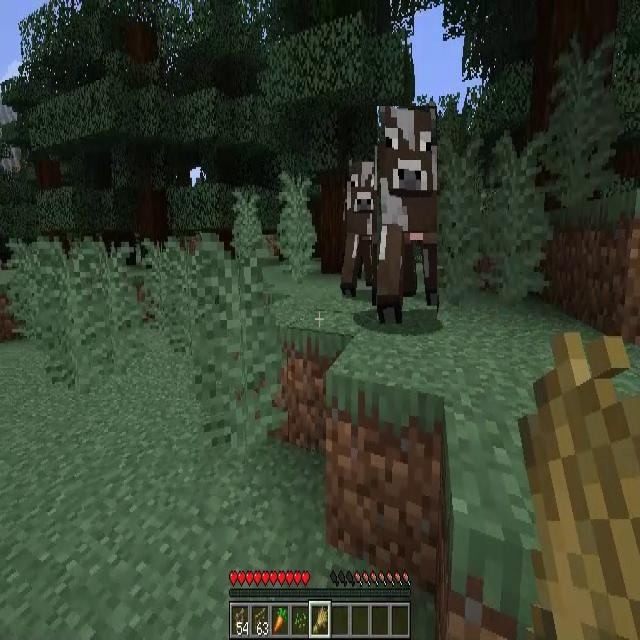cow: (378, 106, 438, 324), (342, 159, 379, 302)
